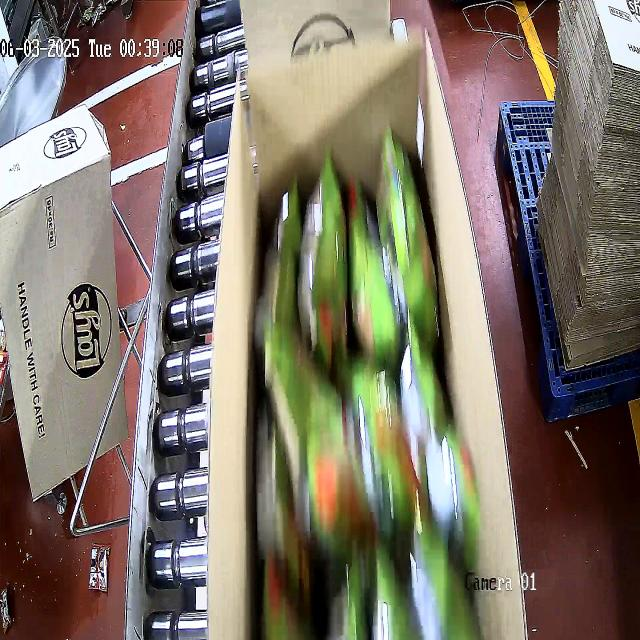YOGURT_HERB: (256, 121, 479, 638)
